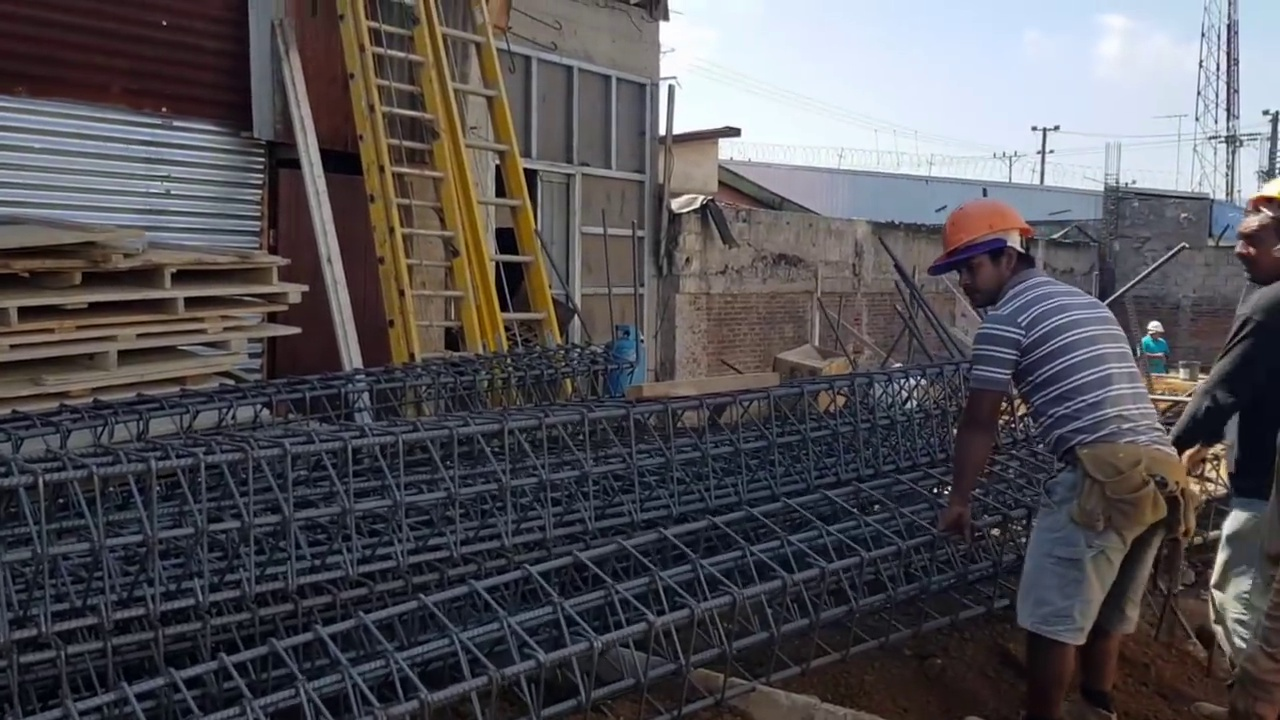helmet: (930, 192, 1039, 273), (1244, 192, 1276, 214), (1146, 321, 1165, 333)
helmet-on: (938, 197, 1044, 314), (1236, 188, 1280, 278), (1146, 320, 1165, 339)
person: (928, 212, 1179, 716), (1175, 182, 1280, 720), (1140, 320, 1172, 373)
